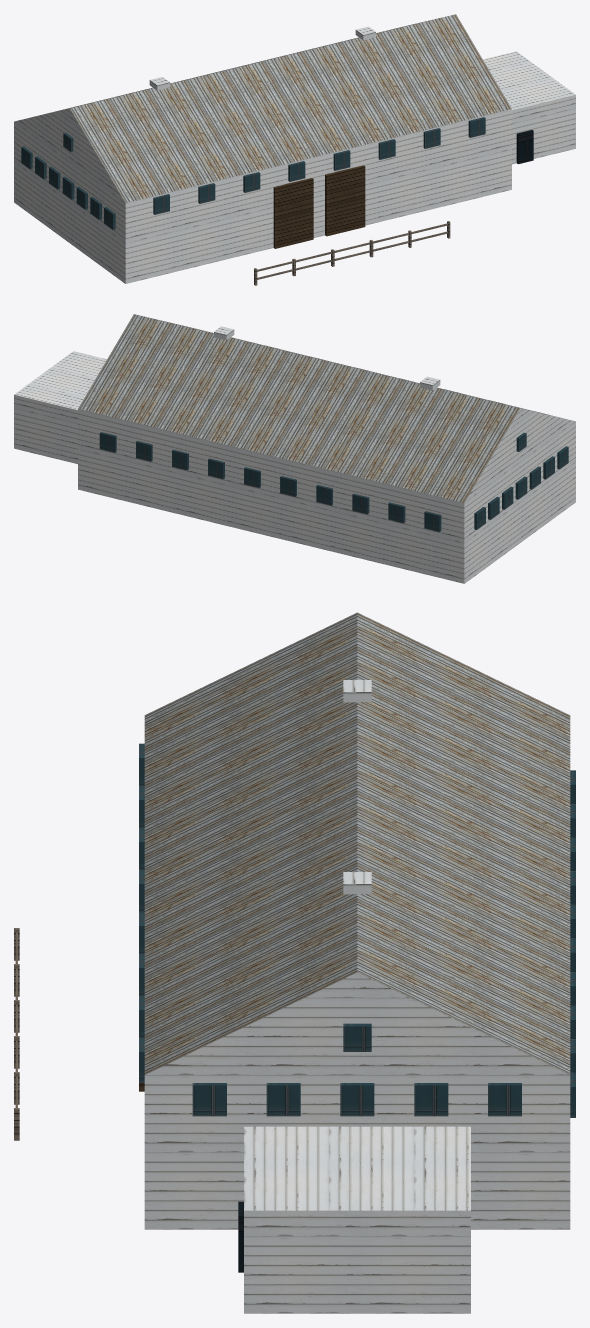
Rendered from dairy-barn_lod0.gltf.
The picture shows the model from 3 angles, top to bottom: view 1: azimuth 30°, elevation 25°; view 2: azimuth 150°, elevation 25°; view 3: azimuth 270°, elevation 25°; orthographic projection. The views are drawn at different scales.
Visible parts, largest first — view 1: dairy-barn_roof, dairy-barn_walls, dairy-barn__milk_house, dairy-barn_fen_18-timber-siding_1_t, dairy-barn_fen_07-glass-curtain-blue_0, dairy-barn_gable_ends, dairy-barn__pen_fence, dairy-barn__milk_house_door; view 2: dairy-barn_roof, dairy-barn_walls, dairy-barn__milk_house, dairy-barn_fen_07-glass-curtain-blue_0, dairy-barn_gable_ends; view 3: dairy-barn_roof, dairy-barn__milk_house, dairy-barn_walls, dairy-barn_gable_ends, dairy-barn_fen_07-glass-curtain-blue_0, dairy-barn__pen_fence.
Boxes of the visible parts, x1,y1,x2,y2 form: dairy-barn_roof: [28, 14, 511, 202]; dairy-barn_walls: [14, 109, 511, 283]; dairy-barn__milk_house: [483, 51, 575, 164]; dairy-barn_fen_18-timber-siding_1_t: [273, 165, 365, 248]; dairy-barn_fen_07-glass-curtain-blue_0: [21, 117, 485, 230]; dairy-barn_gable_ends: [14, 108, 124, 202]; dairy-barn__pen_fence: [254, 221, 450, 285]; dairy-barn__milk_house_door: [516, 130, 533, 164]; dairy-barn_roof: [78, 314, 562, 502]; dairy-barn_walls: [78, 409, 575, 583]; dairy-barn__milk_house: [14, 351, 106, 463]; dairy-barn_fen_07-glass-curtain-blue_0: [99, 348, 568, 531]; dairy-barn_gable_ends: [465, 408, 575, 502]; dairy-barn_roof: [144, 612, 570, 1074]; dairy-barn__milk_house: [244, 1126, 470, 1313]; dairy-barn_walls: [144, 1075, 570, 1229]; dairy-barn_gable_ends: [145, 972, 569, 1075]; dairy-barn_fen_07-glass-curtain-blue_0: [139, 743, 575, 1117]; dairy-barn__pen_fence: [14, 928, 19, 1140].
Bounding box in the file's own units: 37.2 × 10.4 × 19.8.
